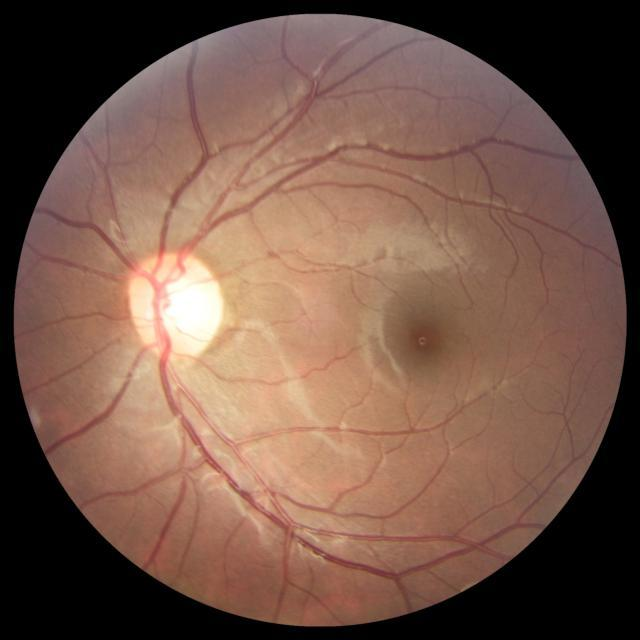OC: (148, 271, 219, 344)
OD: (126, 249, 223, 357)
